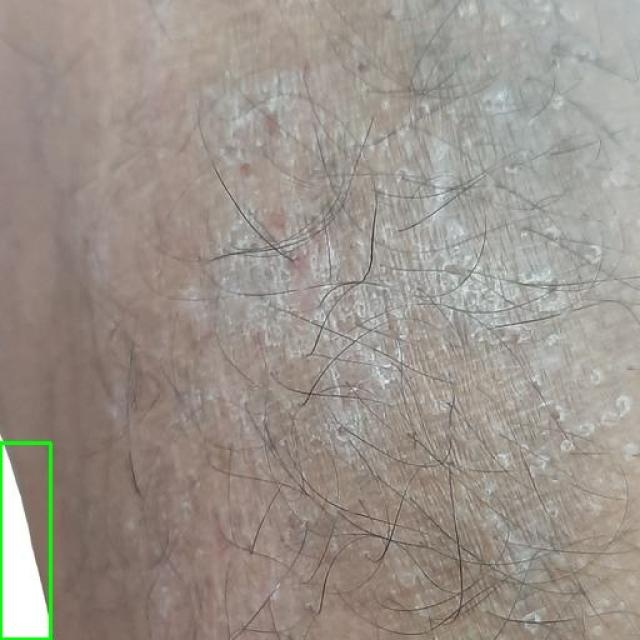Contact Dermatitis: (0, 442, 50, 639)
